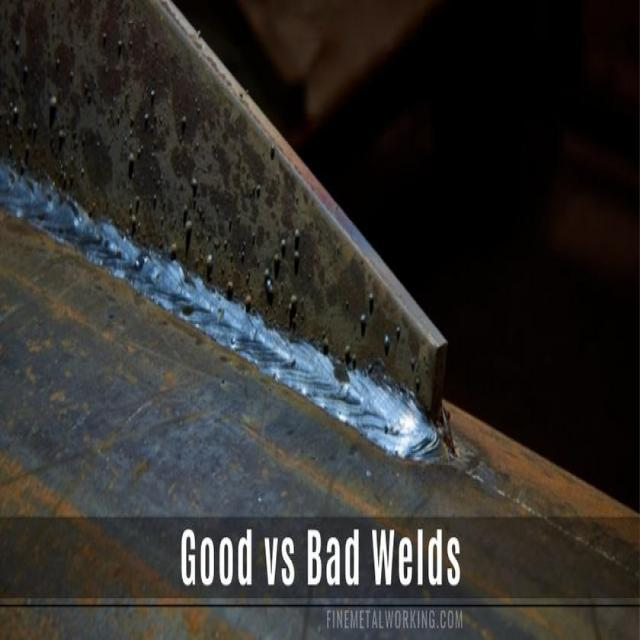Good Weld: (208, 288, 414, 448), (29, 192, 171, 282)
